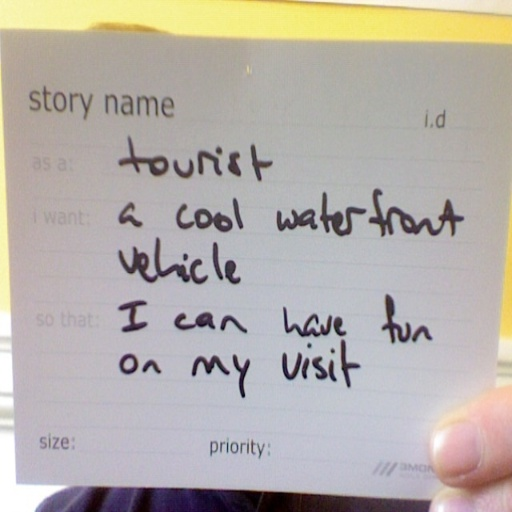hand: (430, 380, 511, 510)
